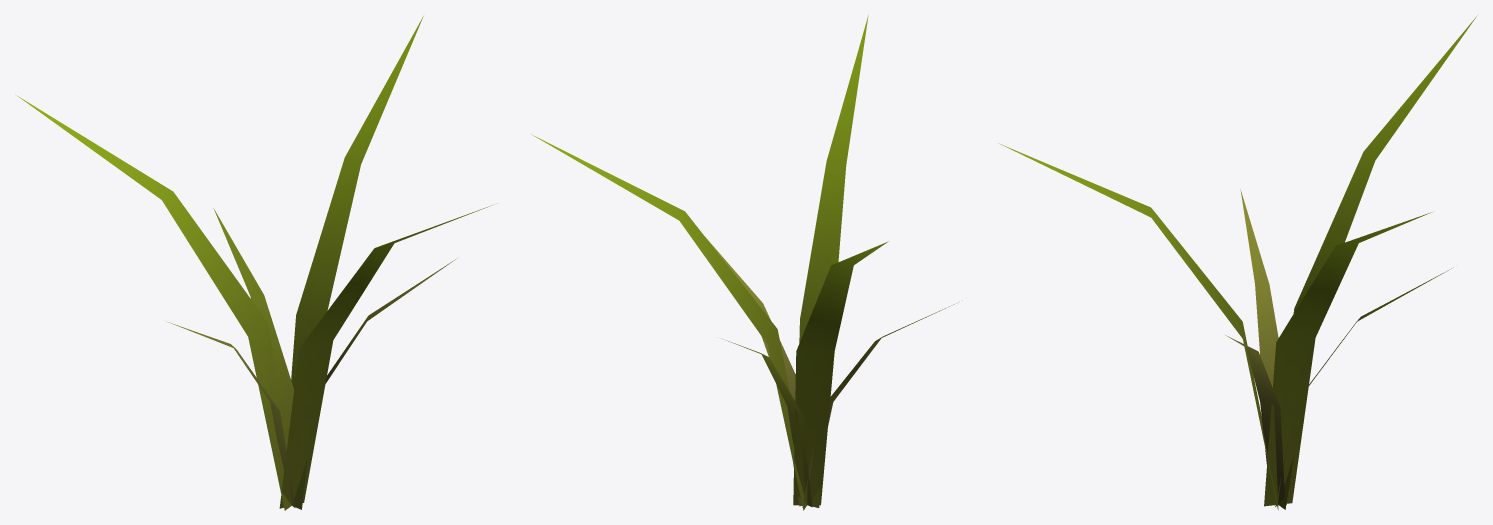
File: Bush_Grassy_A.fbx
3 views of the same model, side by side, from view 1: azimuth 30°, elevation 25°; view 2: azimuth 150°, elevation 25°; view 3: azimuth 270°, elevation 25° (orthographic). The views are drawn at different scales.
Parts seen in each view (by area): view 1: Bush_Grassy_A; view 2: Bush_Grassy_A; view 3: Bush_Grassy_A.
Part boxes in pixels (x1,y1,x2,y2): Bush_Grassy_A: (15, 16, 493, 510); Bush_Grassy_A: (532, 15, 962, 510); Bush_Grassy_A: (998, 15, 1477, 510).
Bounding box in the file's own units: 94.33 × 89.17 × 97.58.
